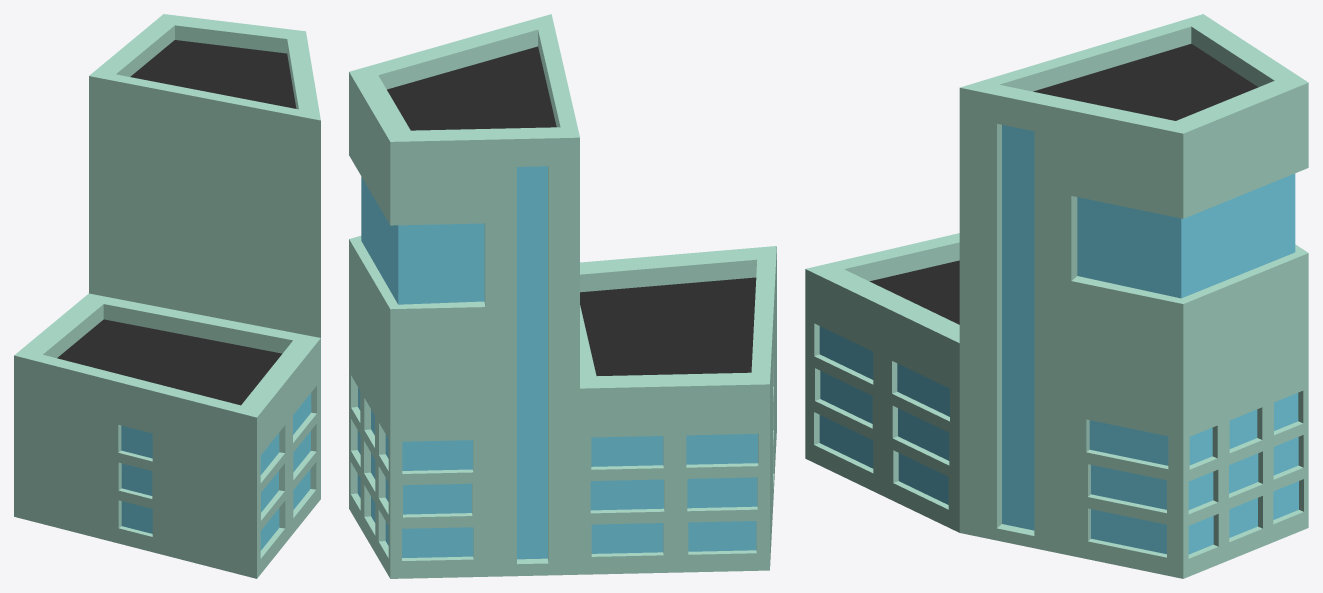
The model's file is Skyscraper_03.fbx.
3 views of the same model, side by side, from view 1: azimuth 30°, elevation 25°; view 2: azimuth 150°, elevation 25°; view 3: azimuth 270°, elevation 25° (orthographic). The views are drawn at different scales.
Visible parts, largest first — view 1: Building_18; view 2: Building_18; view 3: Building_18.
Part boxes in pixels (x1,y1,x2,y2): Building_18: [14, 14, 320, 578]; Building_18: [349, 14, 776, 578]; Building_18: [805, 14, 1308, 578].
Bounding box in the file's own units: 6609 × 7286 × 7468.
